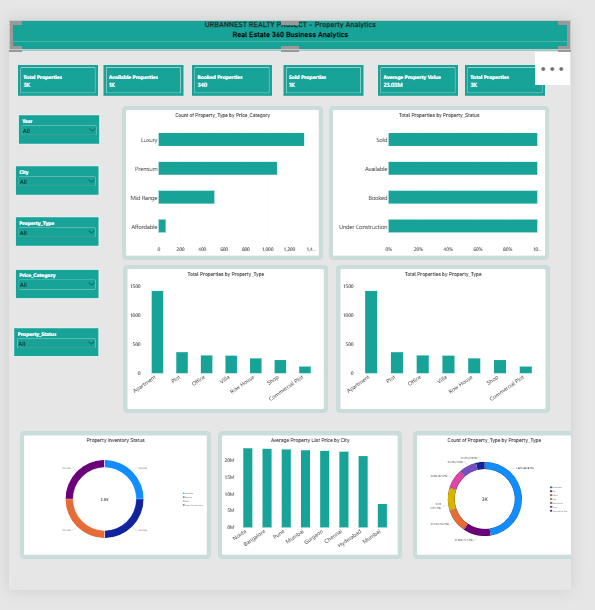

The dashboard page shown, as its layout file describes it:
{"tool":"powerbi","page":{"name":"02-Property Analytics Dashboard","canvas":[3750,3800],"ordinal":1},"visuals":[{"type":"shape","title":"URBANNEST REALTY PROJECT - Executive Overview","box":[0,0,3750,202.5],"z":0},{"type":"cardVisual","fields":{"Data":["Dim_Property.Total Properties"]},"box":[55.6,300,533.3,205.6],"z":1000},{"type":"cardVisual","fields":{"Data":["Dim_Property.Available Properties"]},"box":[633.3,300,533.3,205.6],"z":2000},{"type":"cardVisual","fields":{"Data":["Dim_Property.Booked Properties"]},"box":[1216.7,300,533.3,205.6],"z":3000},{"type":"cardVisual","fields":{"Data":["Dim_Property.Sold Properties"]},"box":[1833.3,300,533.3,205.6],"z":4000},{"type":"cardVisual","fields":{"Data":["Dim_Property.Average Property Value"]},"box":[2455.6,300,533.3,205.6],"z":5000},{"type":"cardVisual","fields":{"Data":["Dim_Property.Total Properties"]},"box":[3044.4,300,533.3,205.6],"z":6000},{"type":"donutChart","title":"Property Inventory Status","fields":{"Category":["Dim_Property.Property_Status"],"Y":["CountNonNull(Fact_Sales.Property_Type)"]},"box":[95.2,2771.4,1219,795.2],"z":7000},{"type":"clusteredColumnChart","fields":{"Category":["Dim_Property.Property_Type"],"Y":["Dim_Property.Total Properties"]},"box":[790.5,1661.9,1309.5,933.3],"z":8000},{"type":"barChart","fields":{"Category":["Dim_Property.Price_Category "],"Y":["CountNonNull(Dim_Property.Property_Type)"]},"box":[781,604.8,1285.7,971.4],"z":9000},{"type":"hundredPercentStackedBarChart","fields":{"Category":["Dim_Property.Property_Status"],"Y":["Dim_Property.Total Properties"]},"box":[2161.9,604.8,1414.3,971.4],"z":10000},{"type":"columnChart","fields":{"Category":["Dim_Property.City"],"Y":["Dim_Property.Average Property List Price"]},"box":[1423.8,2771.4,1171.4,795.2],"z":11000},{"type":"columnChart","fields":{"Category":["Dim_Property.Property_Type"],"Y":["Dim_Property.Total Properties"]},"box":[2209.5,1661.9,1366.7,933.3],"z":12000},{"type":"donutChart","fields":{"Category":["Dim_Property.Property_Type"],"Y":["CountNonNull(Dim_Property.Property_Type)"]},"box":[2723.8,2771.4,1028.6,795.2],"z":13000},{"type":"slicer","fields":{"Values":["Dim_Date.Date.Variation.Date Hierarchy.Year"]},"box":[57.1,633.3,547.6,200],"z":14000},{"type":"slicer","fields":{"Values":["Dim_Location.City"]},"box":[42.9,966.7,561.9,200],"z":15000},{"type":"slicer","fields":{"Values":["Dim_Property.Property_Type"]},"box":[42.9,1314.3,561.9,200],"z":16000},{"type":"slicer","fields":{"Values":["Property_Analysis.Price_Category "]},"box":[42.9,1661.9,561.9,200],"z":17000},{"type":"slicer","fields":{"Values":["Dim_Property.Property_Status"]},"box":[33.3,2047.6,571.4,195.2],"z":18000}]}

Visuals, with their boxes in screenshot pixels (x1, y1, x2, y2):
"URBANNEST REALTY PROJECT - Executive Overview" shape: 5, 17, 571, 48
cardVisual - Dim_Property.Total Properties: 13, 63, 94, 94
cardVisual - Dim_Property.Available Properties: 100, 63, 181, 94
cardVisual - Dim_Property.Booked Properties: 189, 63, 269, 94
cardVisual - Dim_Property.Sold Properties: 282, 63, 362, 94
cardVisual - Dim_Property.Average Property Value: 376, 63, 456, 94
cardVisual - Dim_Property.Total Properties: 465, 63, 545, 94
"Property Inventory Status" donutChart: 19, 436, 203, 556
clusteredColumnChart - Dim_Property.Property_Type x Dim_Property.Total Properties: 124, 269, 322, 410
barChart - Dim_Property.Price_Category  x CountNonNull(Dim_Property.Property_Type): 123, 109, 317, 256
hundredPercentStackedBarChart - Dim_Property.Property_Status x Dim_Property.Total Properties: 331, 109, 545, 256
columnChart - Dim_Property.City x Dim_Property.Average Property List Price: 220, 436, 397, 556
columnChart - Dim_Property.Property_Type x Dim_Property.Total Properties: 339, 269, 545, 410
donutChart - Dim_Property.Property_Type x CountNonNull(Dim_Property.Property_Type): 416, 436, 572, 556
slicer - Dim_Date.Date.Variation.Date Hierarchy.Year: 13, 113, 96, 143
slicer - Dim_Location.City: 11, 164, 96, 194
slicer - Dim_Property.Property_Type: 11, 216, 96, 246
slicer - Property_Analysis.Price_Category : 11, 269, 96, 299
slicer - Dim_Property.Property_Status: 10, 327, 96, 356
